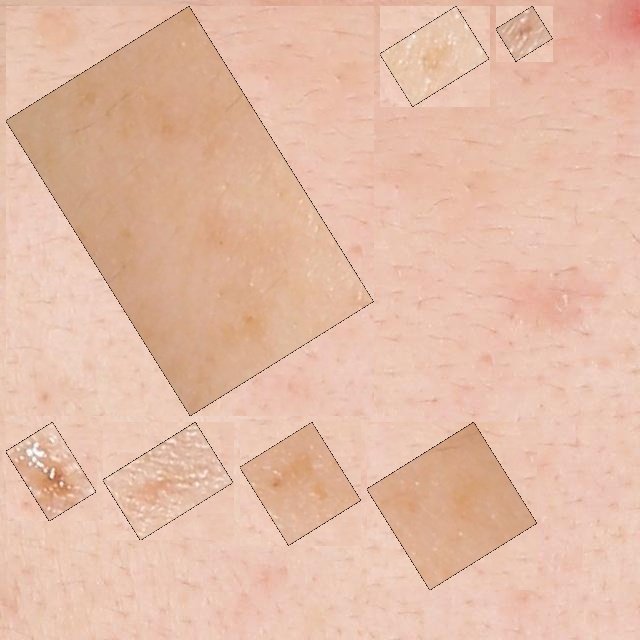melasma: (17, 17, 363, 405), (378, 433, 526, 579), (114, 433, 222, 529), (251, 433, 350, 534), (391, 17, 478, 95)
nevus: (17, 433, 85, 510)
